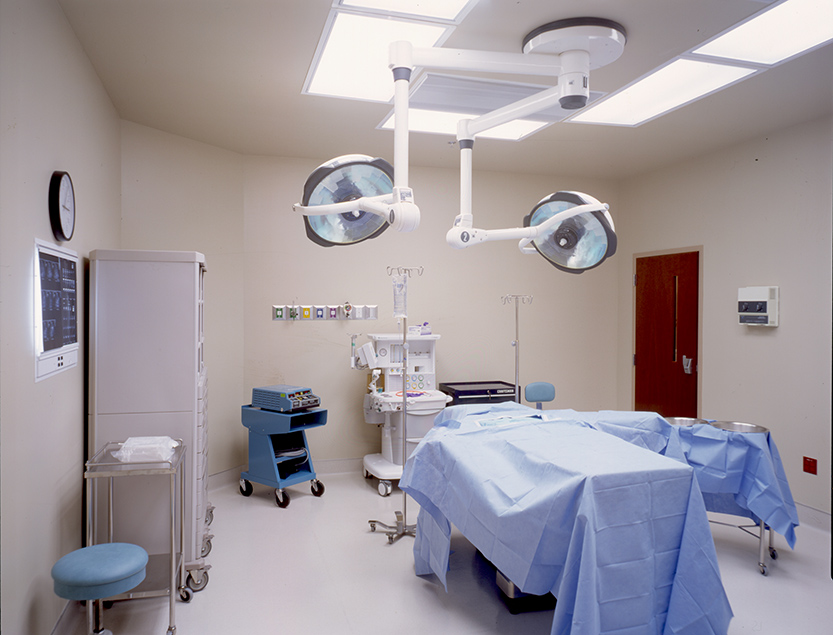bedside_monitor: (26, 249, 87, 356)
cabinet: (83, 242, 213, 588)
chair: (52, 537, 155, 635)
dispenser: (734, 283, 784, 332)
door_handle: (682, 354, 692, 376)
electrosurgical_unit: (249, 382, 324, 414)
iv_pole: (384, 263, 422, 526), (498, 289, 532, 405)
operating_bed: (408, 400, 699, 614)
surgical_light: (292, 154, 397, 248), (524, 192, 618, 275)
utility_cart: (88, 437, 194, 635)
ventilator: (348, 324, 446, 486)
waste_bin: (670, 416, 787, 574)
